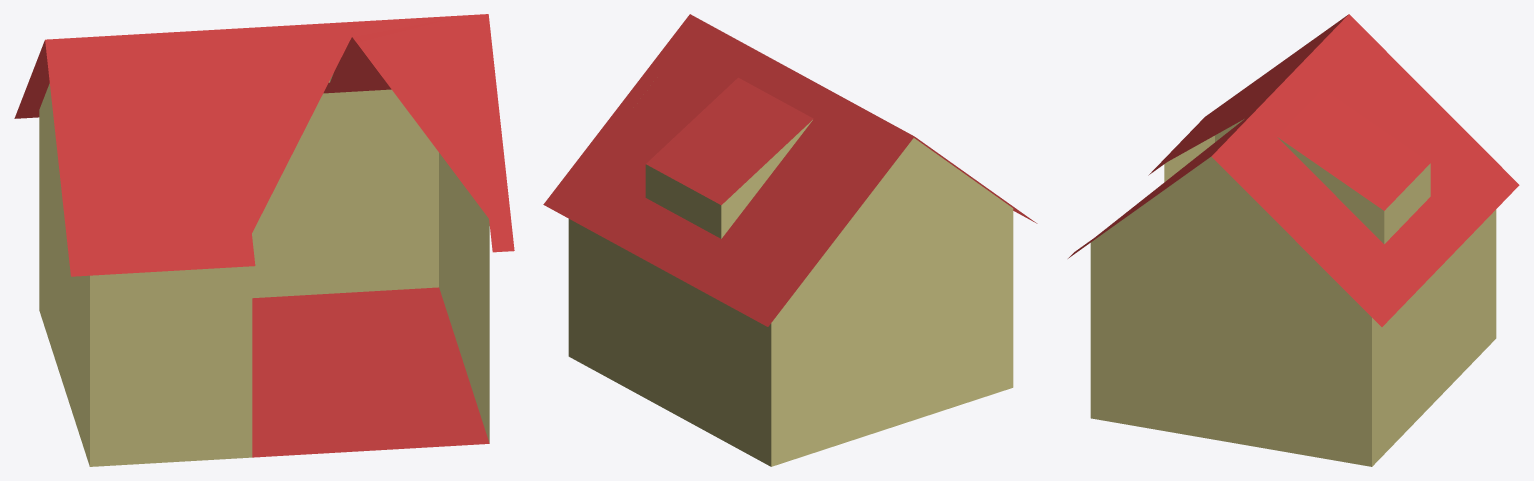
3 renders of one model, left to right at view 1: azimuth 30°, elevation 25°; view 2: azimuth 150°, elevation 25°; view 3: azimuth 270°, elevation 25°, orthographic. The views are drawn at different scales.
Size of the model in its own units: 19.4 by 18.85 by 13.38.
